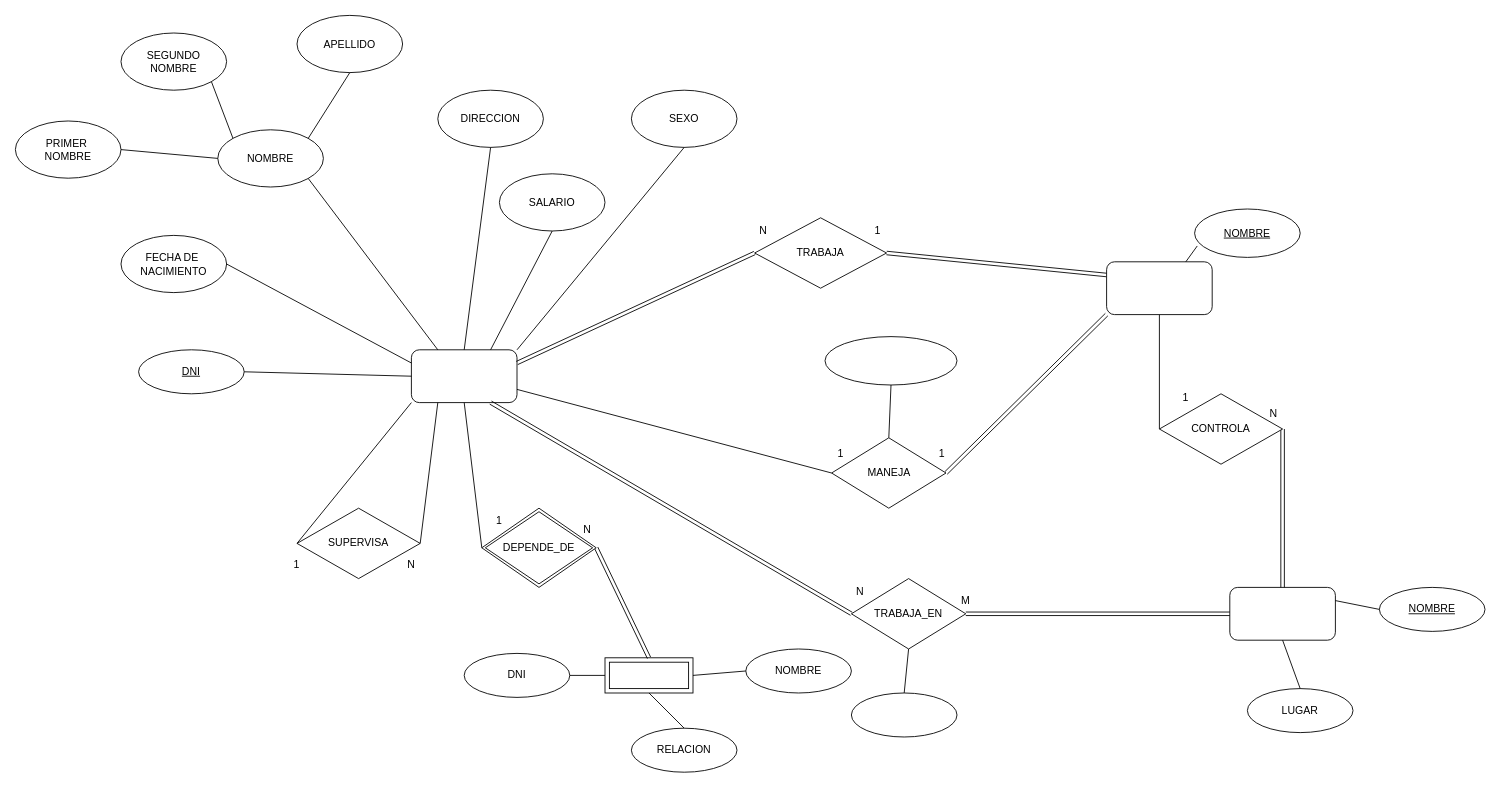
Image size: 1500x788. Some labels were removed from this diagram. The shapes that lost their labels are listed below. From the top down, each one's centre as x and y in pixels, then its label:
At (x=1159, y=288): "DEPARTAMENTO".
At (x=464, y=376): "EMPLEADO".
At (x=890, y=360): "CUANDO_COMENZO".
At (x=1282, y=613): "PROYECTO".
At (x=648, y=675): "DEPENDIENTE".
At (x=904, y=714): "HORAS".
